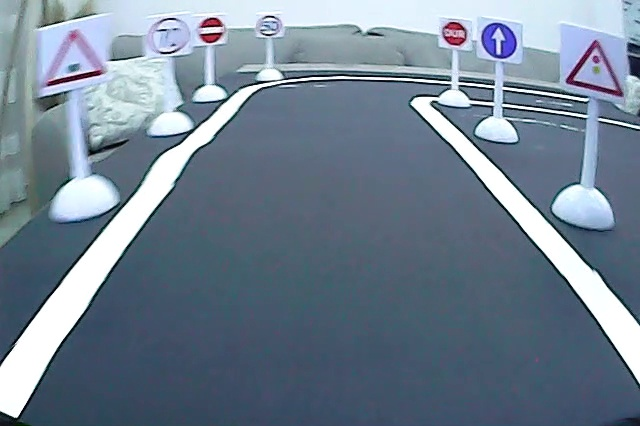do not enter: (197, 16, 227, 45)
green light: (40, 24, 109, 89)
red light: (563, 36, 627, 102)
speed limit 50: (256, 13, 284, 39)
speed limit 70: (147, 15, 191, 57)
stop sign: (440, 18, 470, 49)
